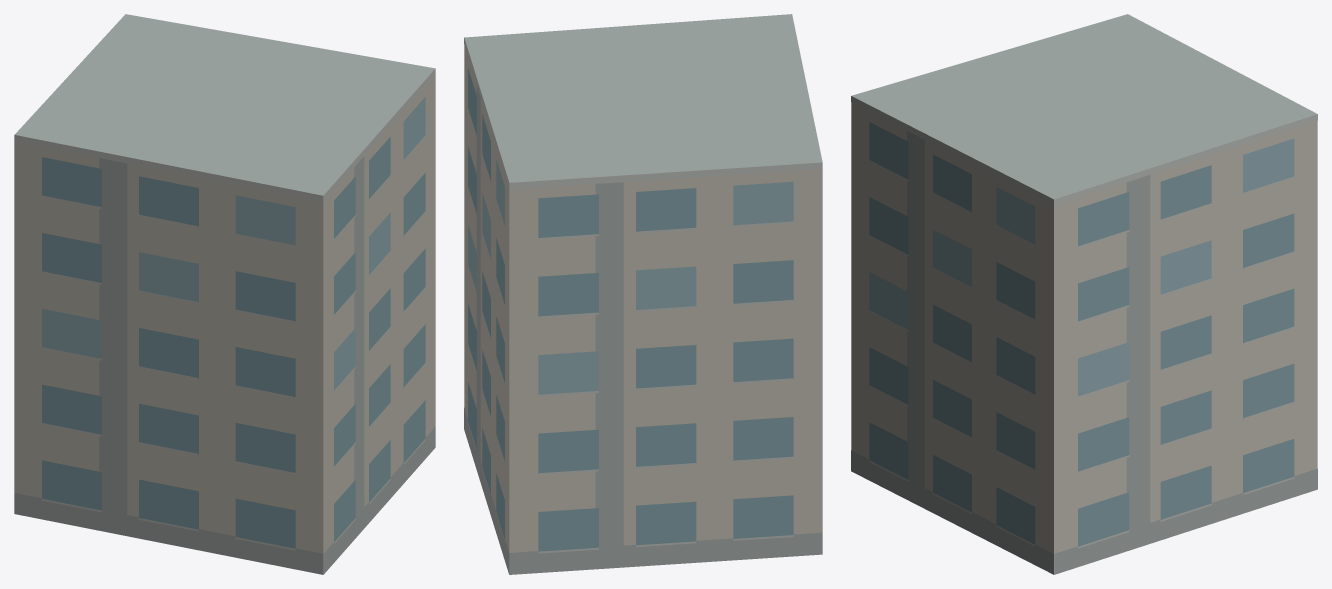
The model's file is survey-upis-32836526.glb.
The picture shows the model from 3 angles, left to right: view 1: azimuth 30°, elevation 25°; view 2: azimuth 150°, elevation 25°; view 3: azimuth 270°, elevation 25°; orthographic projection. The views are drawn at different scales.
Visible parts, largest first — view 1: survey-upis-32836526.tmp; view 2: survey-upis-32836526.tmp; view 3: survey-upis-32836526.tmp.
Boxes of the visible parts, bbox=[...] form: survey-upis-32836526.tmp: bbox=[14, 14, 435, 574]; survey-upis-32836526.tmp: bbox=[464, 14, 822, 574]; survey-upis-32836526.tmp: bbox=[851, 14, 1317, 574].
Size of the model in its own units: 15.16 by 14.3 by 16.12.
